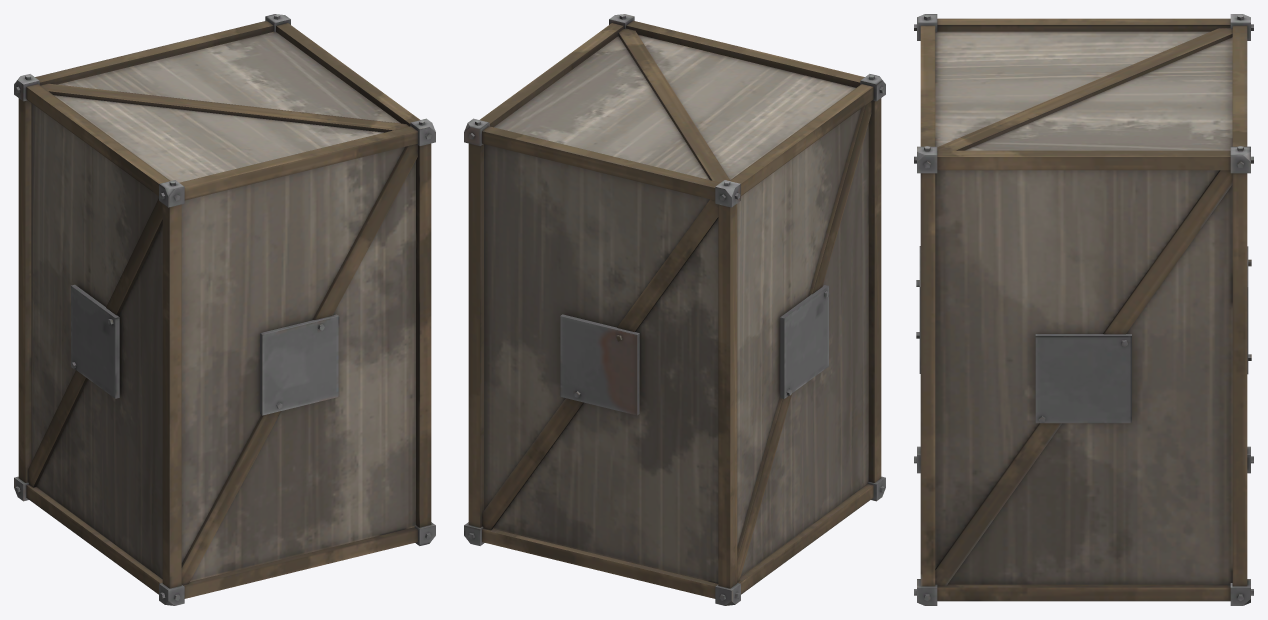
The model's file is BuildingCrateAutoMiner.glb.
3 renders of one model, left to right at view 1: azimuth 30°, elevation 25°; view 2: azimuth 150°, elevation 25°; view 3: azimuth 270°, elevation 25°, orthographic. The views are drawn at different scales.
Visible parts, largest first — view 1: BuildingCrateAutoMiner; view 2: BuildingCrateAutoMiner; view 3: BuildingCrateAutoMiner.
Part boxes in pixels (x1,y1,x2,y2): BuildingCrateAutoMiner: (14, 14, 435, 605); BuildingCrateAutoMiner: (464, 14, 885, 605); BuildingCrateAutoMiner: (914, 14, 1253, 605).
Bounding box in the file's own units: 1.3 × 1.93 × 1.3.
Materials: 1 (1 with a texture image).
